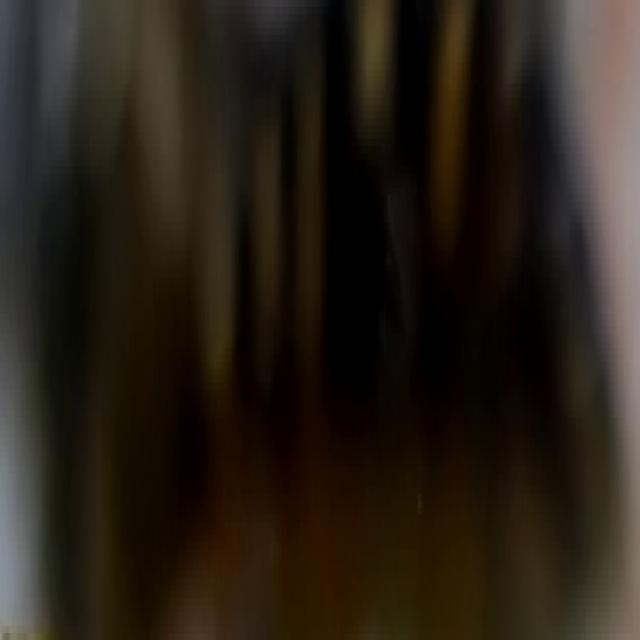fish: (1, 7, 640, 640)
